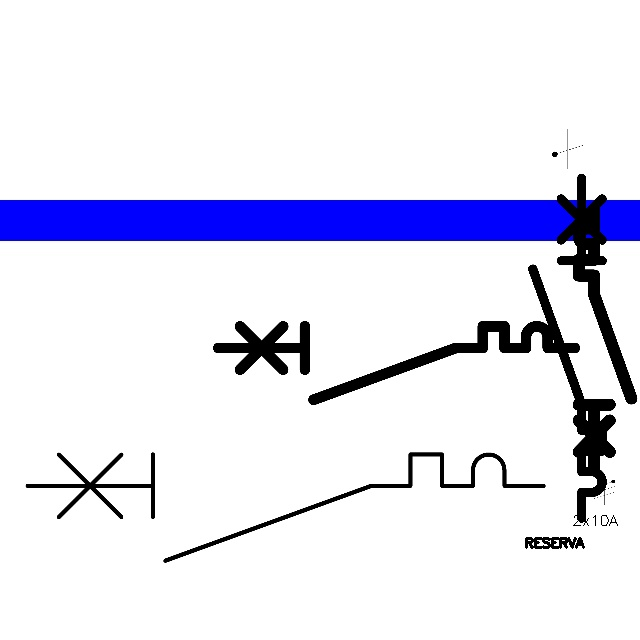interruptor_termomagnetico: (14, 441, 557, 574), (209, 317, 584, 409), (524, 169, 611, 526), (572, 202, 638, 474)
